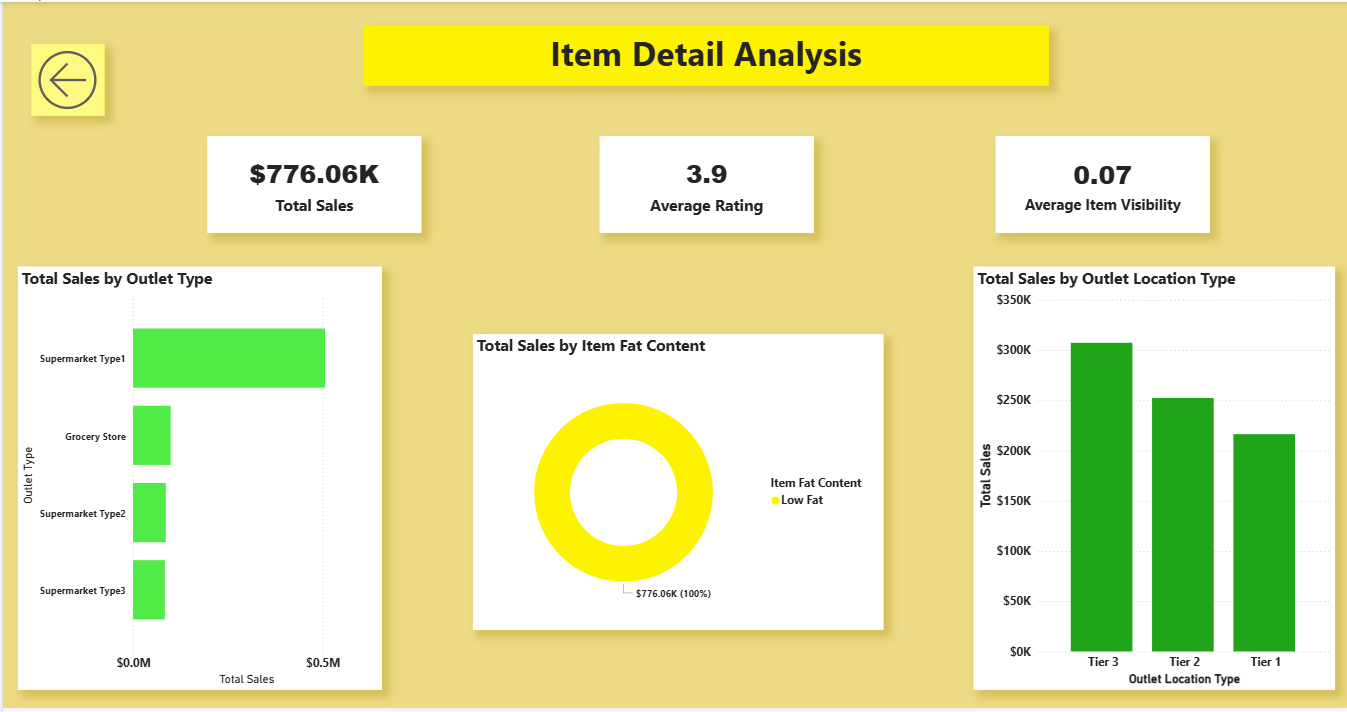

This screenshot's page, from the dashboard's own definition file:
{"tool":"powerbi","page":{"name":"Items Detail","canvas":[1715,900],"ordinal":3},"visuals":[{"type":"textbox","box":[459.2,29.6,873.9,77.3],"z":0},{"type":"actionButton","box":[36.2,52.7,93.8,92.2],"z":1000},{"type":"card","fields":{"Values":["Fact Table.Total Sales"]},"box":[260,171.2,273.2,123.4],"z":2000},{"type":"card","fields":{"Values":["Fact Table.Average Item Visibility"]},"box":[1265.6,171.2,273.2,123.4],"z":3000},{"type":"card","fields":{"Values":["Fact Table.Average Rating"]},"box":[760.3,171.2,273.2,123.4],"z":4000},{"type":"clusteredBarChart","fields":{"Y":["Fact Table.Total Sales"],"Category":["Fact Table.Outlet Type"]},"box":[18.1,337.4,464.1,539.8],"z":5000},{"type":"donutChart","fields":{"Category":["Fact Table.Item Fat Content"],"Y":["Fact Table.Total Sales"]},"box":[599,422.9,523.3,376.9],"z":6000},{"type":"columnChart","fields":{"Y":["Fact Table.Total Sales"],"Category":["Fact Table.Outlet Location Type"]},"box":[1237.6,337.4,460.8,539.8],"z":7000}]}

Visuals, with their boxes in screenshot pixels (x1, y1, x2, y2), scaled from the page's 1715x900 canvas onto the 1347x712 screenshot:
textbox: 361:23:1047:85
actionButton: 28:42:102:115
card - Fact Table.Total Sales: 204:135:419:233
card - Fact Table.Average Item Visibility: 994:135:1209:233
card - Fact Table.Average Rating: 597:135:812:233
clusteredBarChart - Fact Table.Total Sales x Fact Table.Outlet Type: 14:267:379:694
donutChart - Fact Table.Item Fat Content x Fact Table.Total Sales: 470:335:881:633
columnChart - Fact Table.Total Sales x Fact Table.Outlet Location Type: 972:267:1334:694
